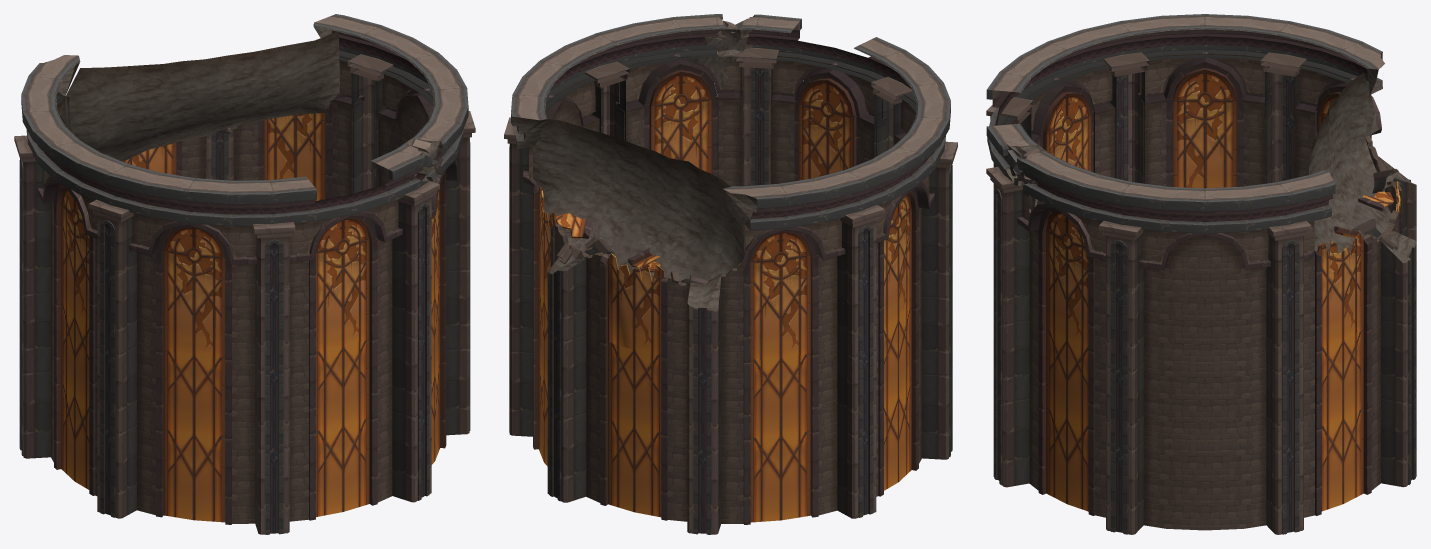
File: sc_dungeon_moshenta_ta_001.FBX
The picture shows the model from 3 angles, left to right: view 1: azimuth 30°, elevation 25°; view 2: azimuth 150°, elevation 25°; view 3: azimuth 270°, elevation 25°; orthographic projection.
Parts seen in each view (by area): view 1: sc_dungeon_moshenta_ta_001; view 2: sc_dungeon_moshenta_ta_001; view 3: sc_dungeon_moshenta_ta_001.
Part boxes in pixels (x1,y1,x2,y2): sc_dungeon_moshenta_ta_001: (14, 14, 475, 534); sc_dungeon_moshenta_ta_001: (504, 14, 957, 534); sc_dungeon_moshenta_ta_001: (986, 14, 1416, 534).
Size of the model in its own units: 75.57 by 63.49 by 73.03.
Materials: 1 (1 with a texture image).
